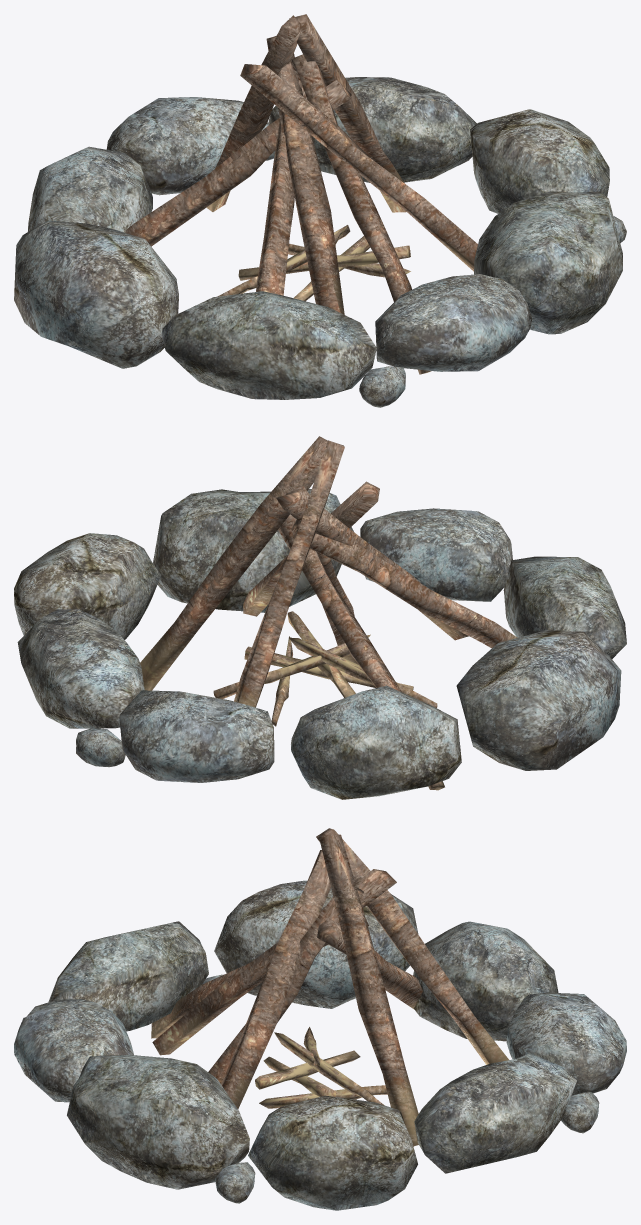
Rendered from bonfire.obj.
3 renders of one model, top to bottom at view 1: azimuth 30°, elevation 25°; view 2: azimuth 150°, elevation 25°; view 3: azimuth 270°, elevation 25°, orthographic. The views are drawn at different scales.
Visible parts, largest first — view 1: Koster_low_Koster1_0; view 2: Koster_low_Koster1_0; view 3: Koster_low_Koster1_0.
Part boxes in pixels (left/top/right/bottom): Koster_low_Koster1_0: left=14, top=14, right=626, bottom=407; Koster_low_Koster1_0: left=14, top=436, right=626, bottom=799; Koster_low_Koster1_0: left=14, top=828, right=626, bottom=1210.
Bounding box in the file's own units: 1.33 × 0.7051 × 1.3.
Materials: 1 (1 with a texture image).
